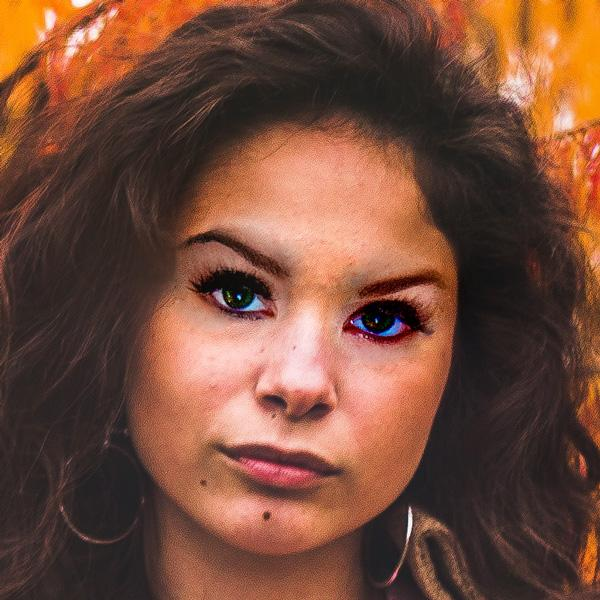Eyes: (179, 252, 282, 329), (328, 284, 431, 355)
